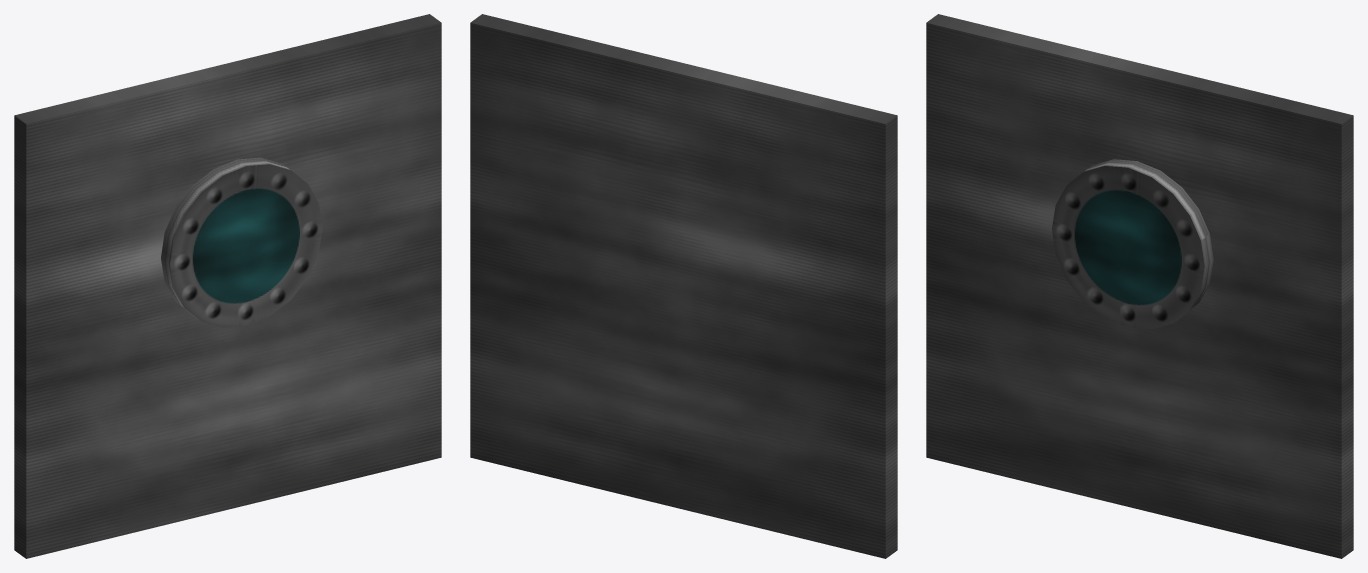
File: portholeWall.fbx
The picture shows the model from 3 angles, left to right: view 1: azimuth 30°, elevation 25°; view 2: azimuth 150°, elevation 25°; view 3: azimuth 330°, elevation 25°; orthographic projection.
Parts seen in each view (by area): view 1: polySurface1; view 2: polySurface1; view 3: polySurface1.
Boxes of the visible parts, x1,y1,x2,y2 form: polySurface1: (14, 14, 441, 558); polySurface1: (470, 14, 897, 558); polySurface1: (926, 14, 1353, 558).
Bounding box in the file's own units: 4 × 4 × 0.3507.
2 materials, 2 textured.
